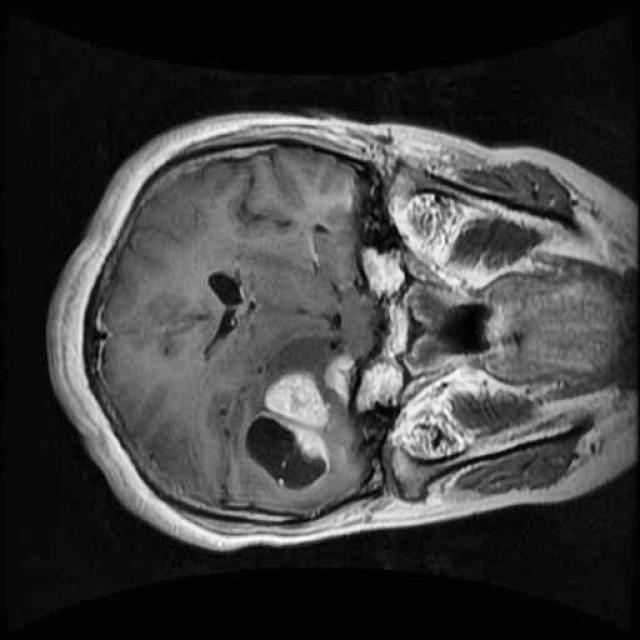Tumor: (229, 351, 343, 502)
